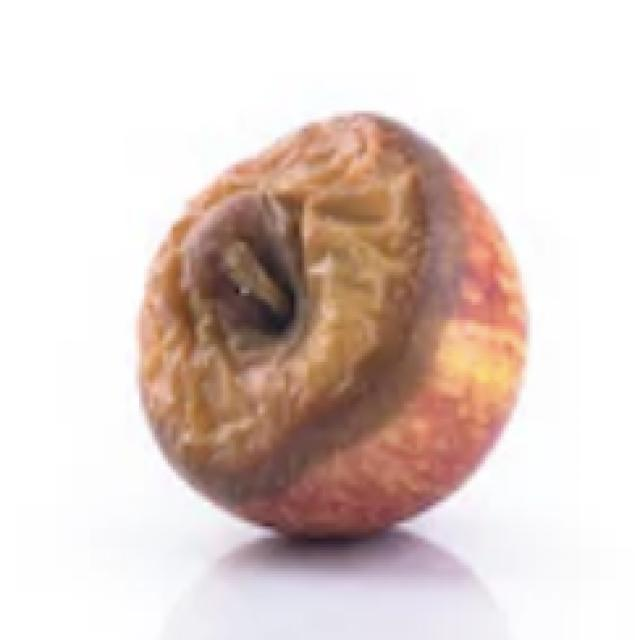rotten_apple: (127, 107, 530, 551)
